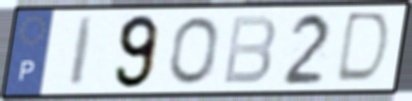2: (280, 10, 334, 88)
9: (111, 13, 164, 91)
B: (220, 13, 279, 87)
D: (332, 10, 394, 87)
I: (66, 15, 99, 90)
O: (167, 14, 220, 87)
